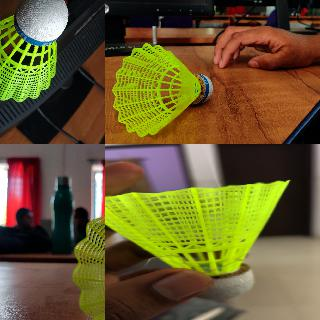shuttlecock: (105, 179, 289, 299), (112, 42, 210, 136), (0, 0, 69, 102), (73, 191, 104, 319)
